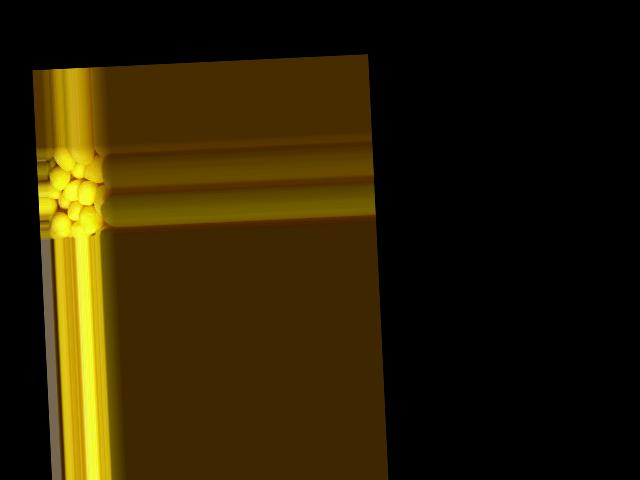lemon: (47, 159, 70, 193)
